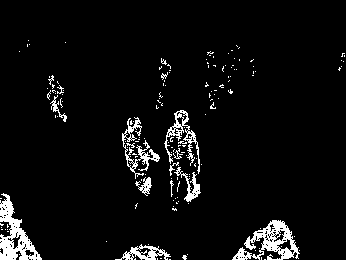person: (165, 110, 202, 211), (120, 116, 160, 196)
